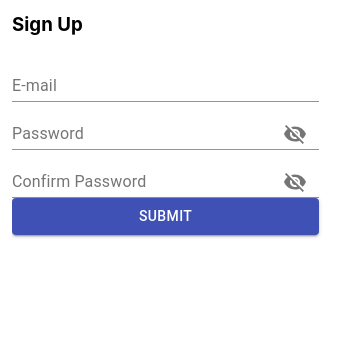
Test: tests for shared input component › validation when input invalid
In the field named "email": (166, 86) [12,70,319,102], type "mockdata@"
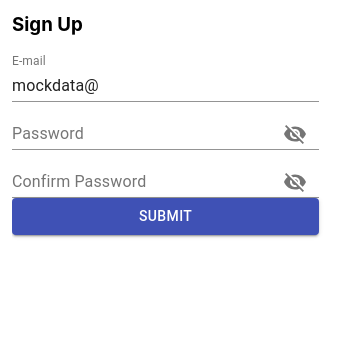
In the password field labelled "Password": (138, 134) [12,118,263,150], type "Mockp"
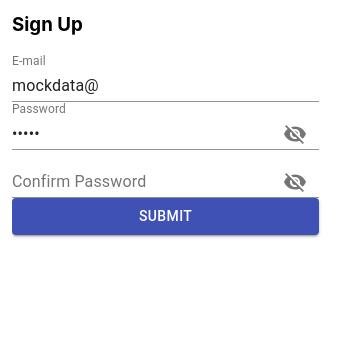
In the password field labelled "Confirm Password": (138, 182) [12,166,263,198], type "Mockpw"
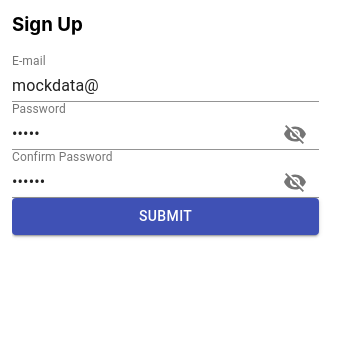
Click the submit button: (166, 217) [12,198,319,235]
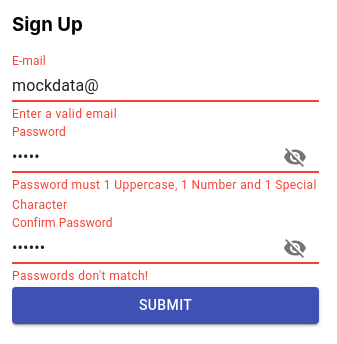
Check: the text "Enter a valid email" is shown, box [12,107,117,121]
Check: the text "Password must 1 Uppercase, 1 Number and 1 Special Character" is shown, box [12,176,319,216]
Check: the text "Passwords don't match!" is shown, box [12,269,149,283]
